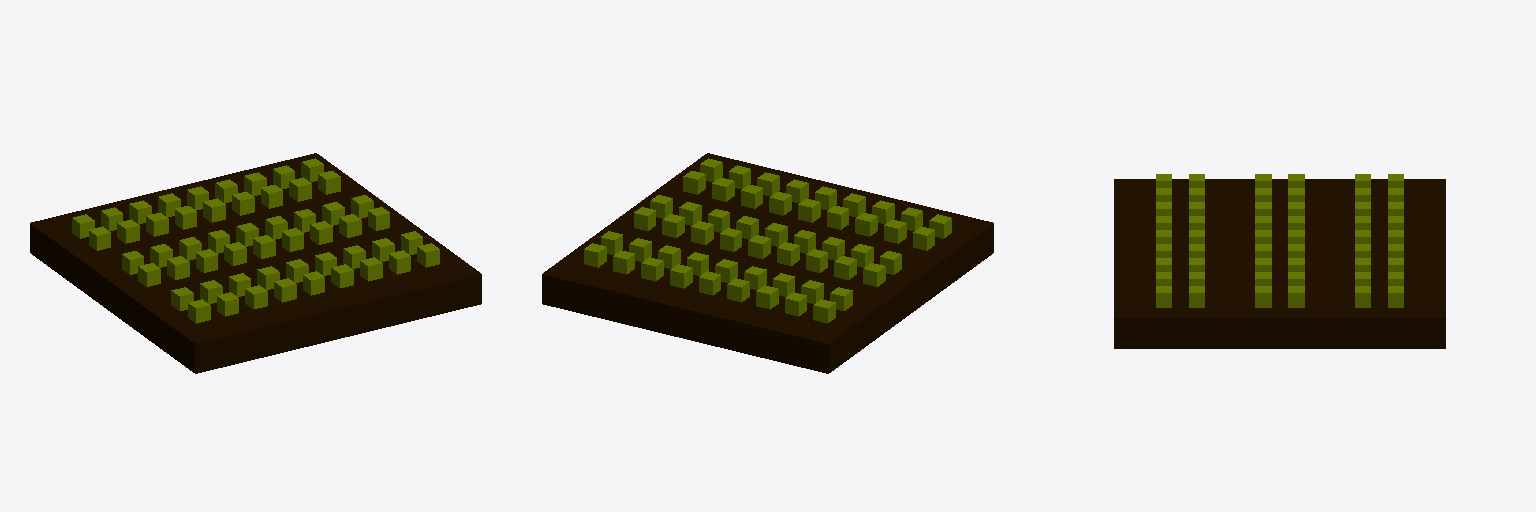
The model's file is Crop2.obj.
The picture shows the model from 3 angles: view 1: azimuth 30°, elevation 25°; view 2: azimuth 150°, elevation 25°; view 3: azimuth 270°, elevation 25°; orthographic projection.
Visible parts, largest first — view 1: CropBare003, Box636; view 2: CropBare003, Box636; view 3: CropBare003, Box636.
Boxes of the visible parts, x1,y1,x2,y2 form: CropBare003: [30, 153, 481, 373]; Box636: [72, 158, 439, 323]; CropBare003: [542, 153, 993, 373]; Box636: [584, 158, 951, 323]; CropBare003: [1114, 179, 1445, 348]; Box636: [1156, 174, 1403, 307].
Bounding box in the file's own units: 10 × 1.5 × 10.